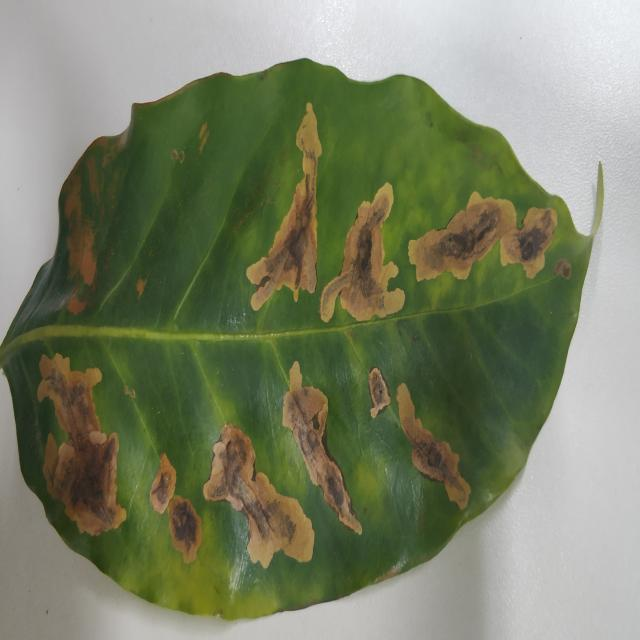Plaga-Minador: (0, 60, 604, 623)
